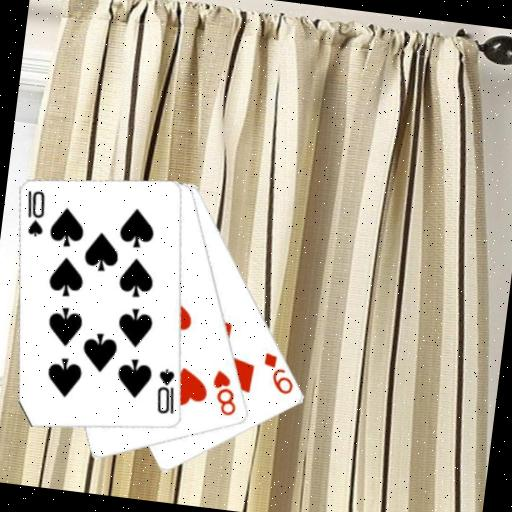10S: (152, 364, 182, 417), (20, 187, 50, 240)
8H: (207, 366, 243, 418)
9D: (258, 349, 300, 398)
